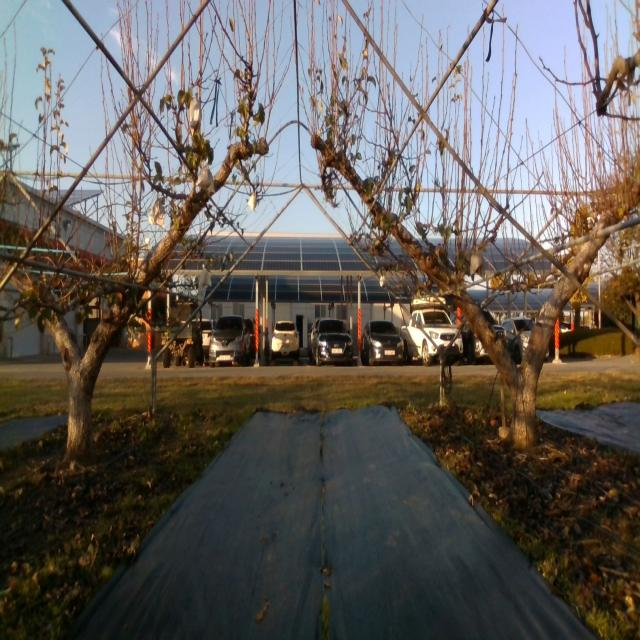pearbags: (196, 166, 215, 194), (148, 198, 164, 226), (189, 99, 202, 129), (470, 254, 485, 280), (199, 269, 212, 288)
